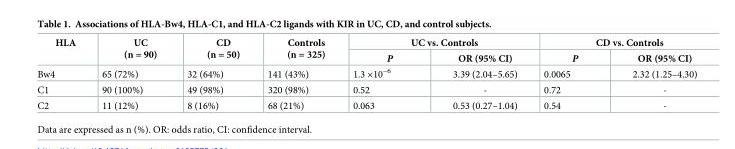table: (36, 37, 696, 110)
table column: (421, 37, 529, 110), (604, 37, 696, 110), (253, 37, 338, 110), (88, 37, 171, 110), (338, 37, 421, 110), (171, 37, 253, 110), (529, 37, 604, 110), (36, 37, 88, 110)
table column header: (36, 37, 696, 65)
table row: (36, 65, 696, 82), (36, 49, 696, 65), (36, 82, 696, 97), (36, 97, 696, 110), (36, 37, 696, 49)
table spanning cell: (253, 37, 338, 65), (88, 37, 171, 65), (171, 37, 253, 65), (338, 37, 529, 49), (529, 37, 696, 49), (36, 37, 88, 65)
